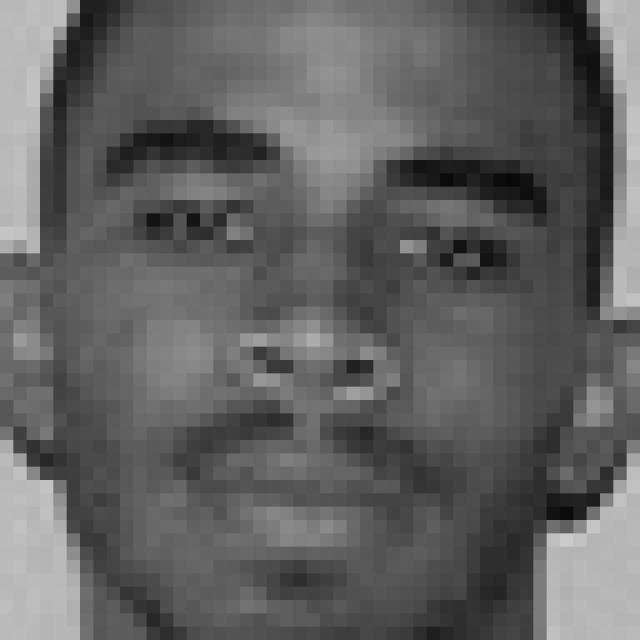neutral: (104, 116, 552, 574)
